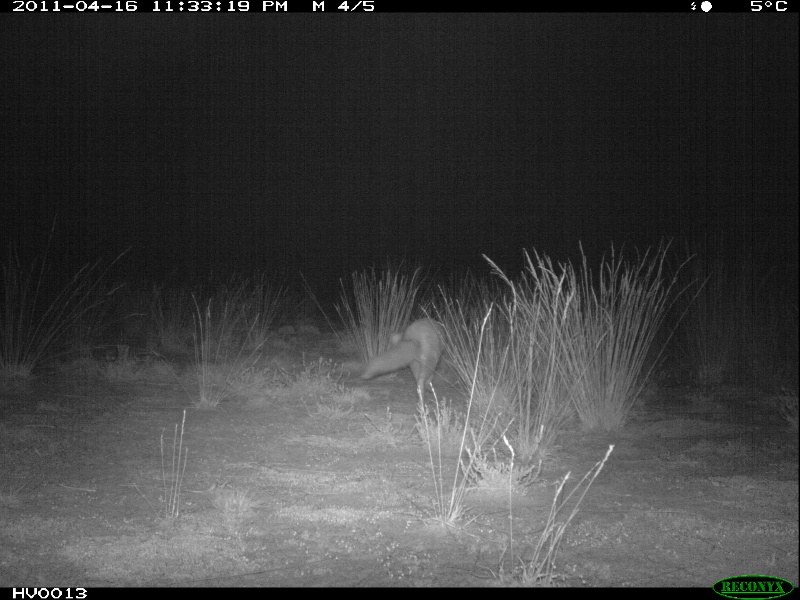fox: (361, 317, 454, 398)
